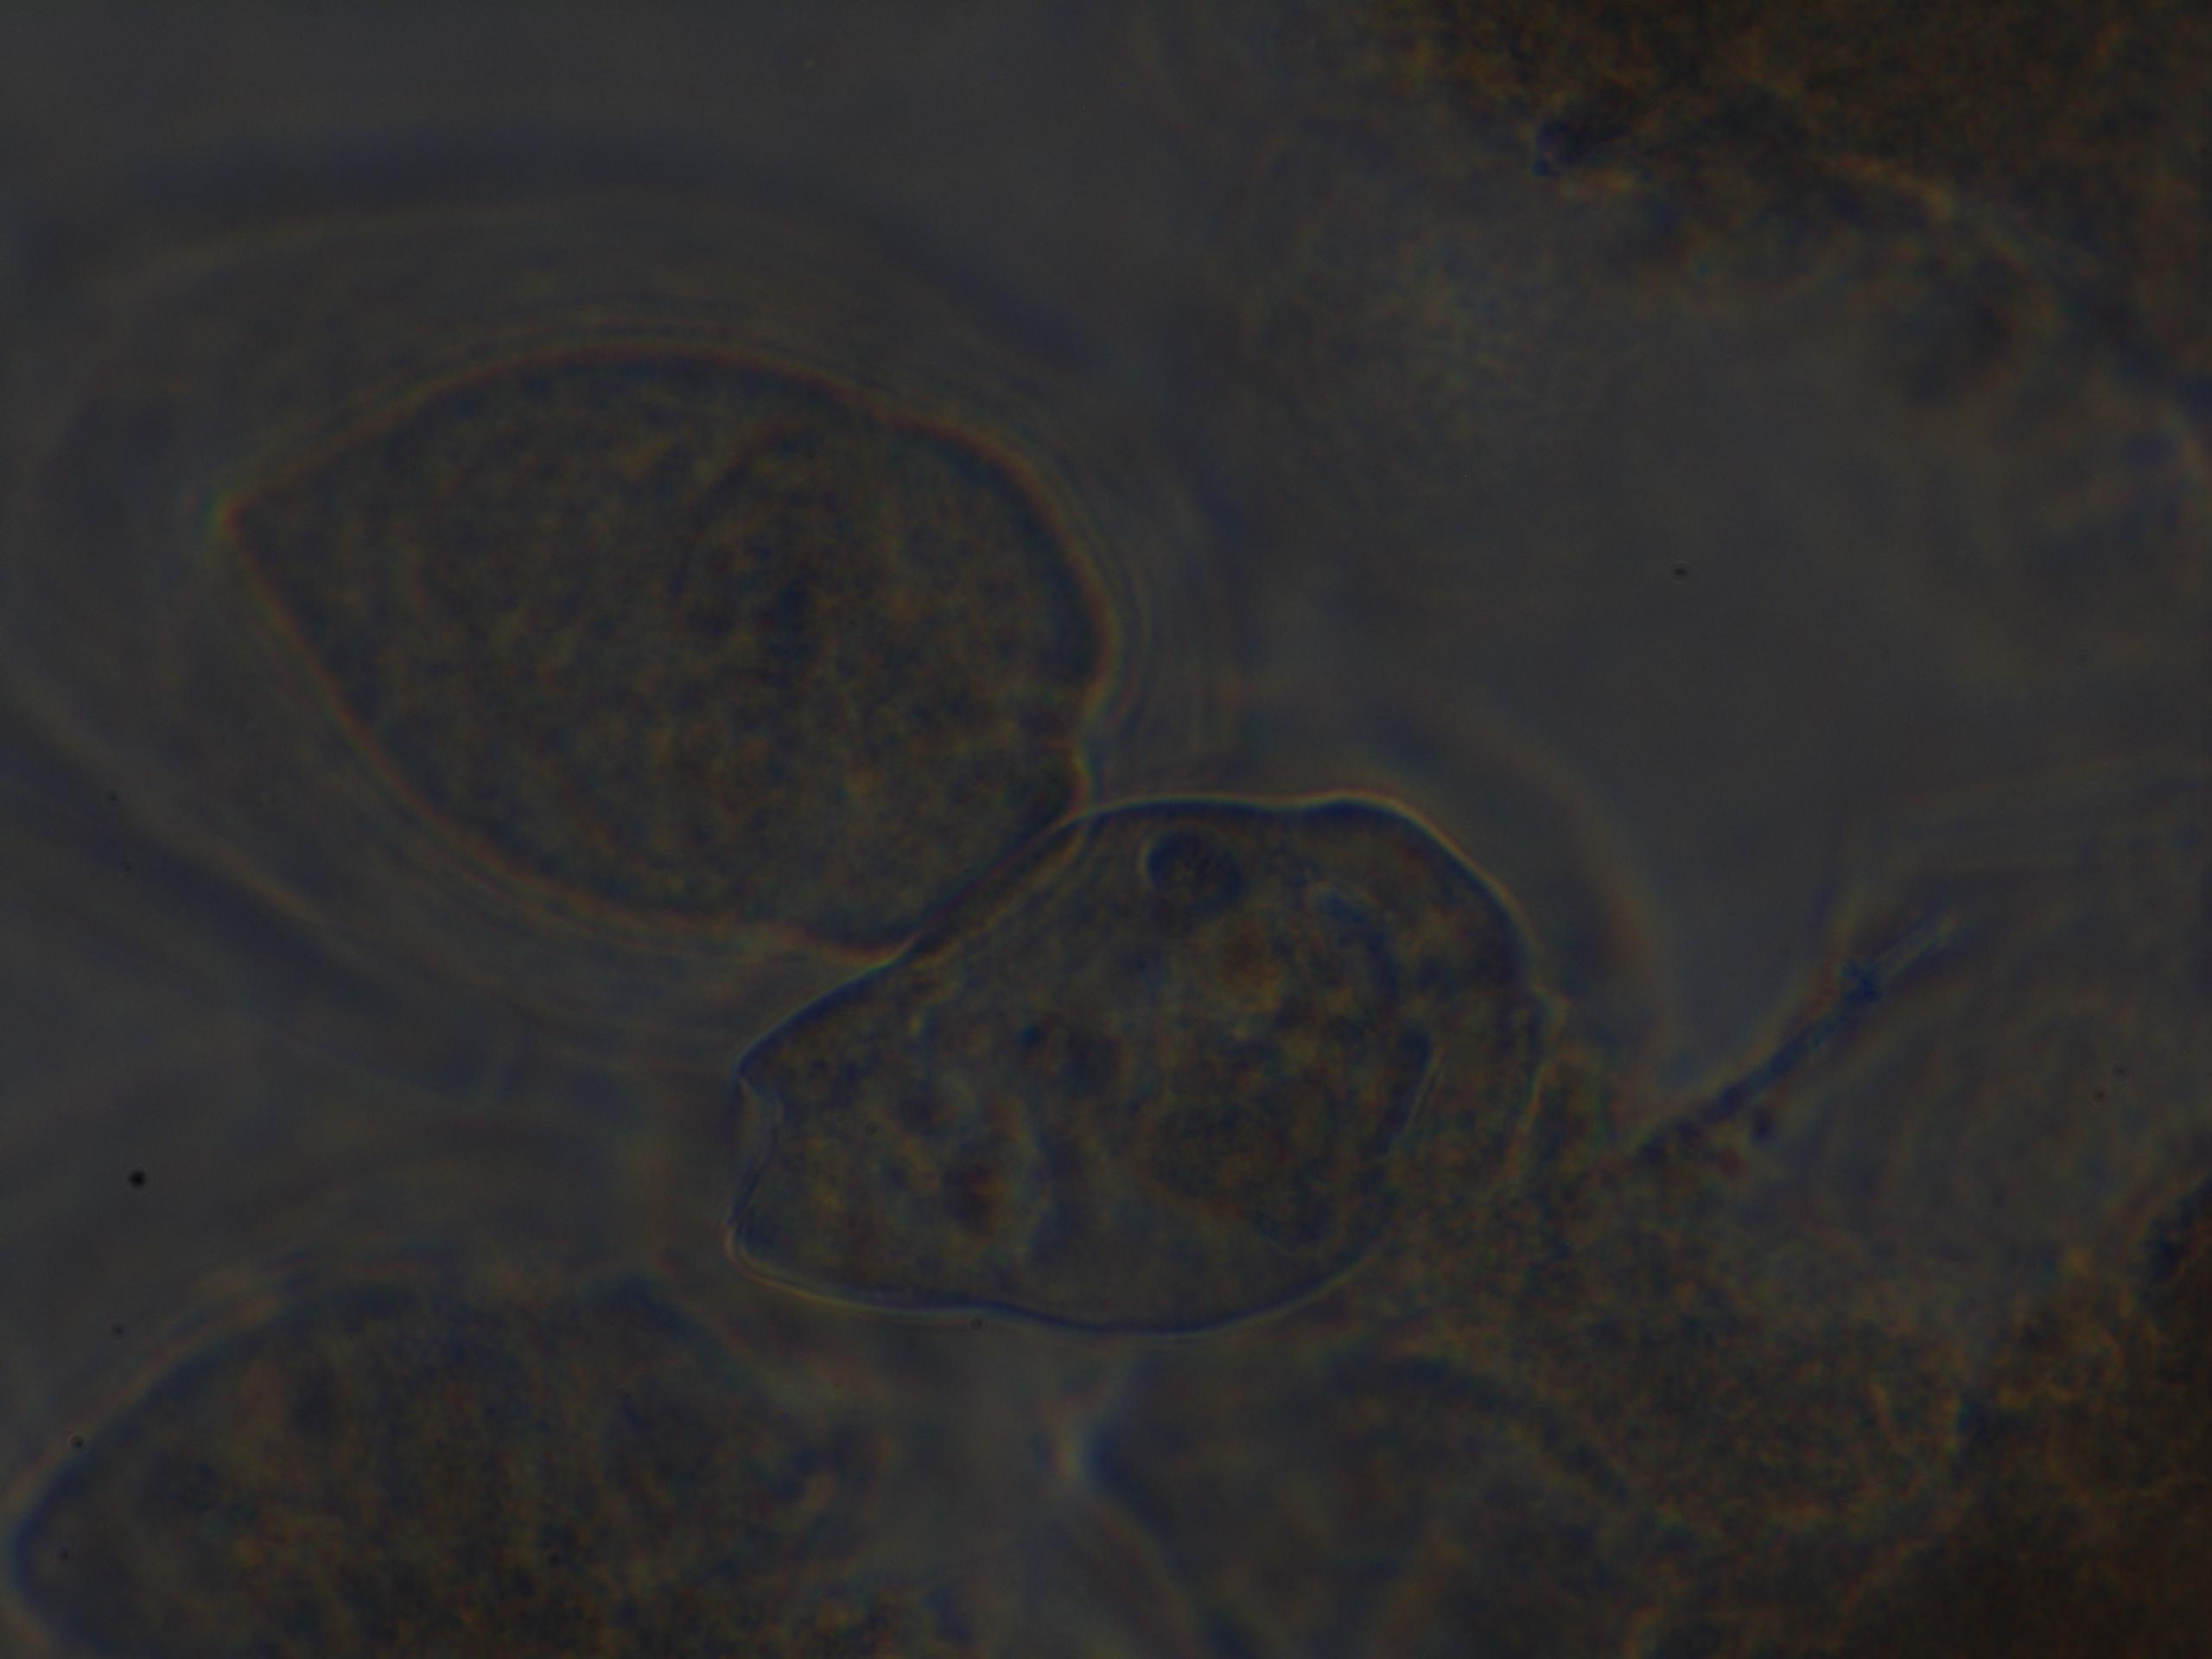protozoa: (0, 157, 1235, 1065), (643, 671, 1726, 1384)
